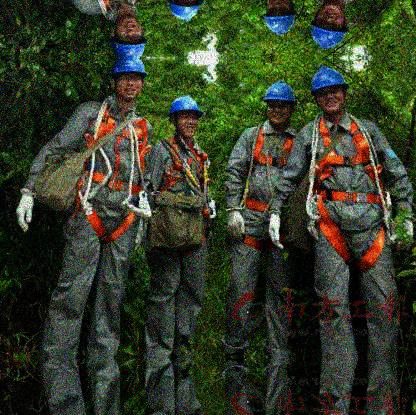helmet: (311, 1, 350, 49), (311, 67, 348, 115), (111, 59, 149, 105), (262, 80, 298, 126), (110, 16, 149, 58), (168, 94, 203, 139), (262, 1, 299, 36)
